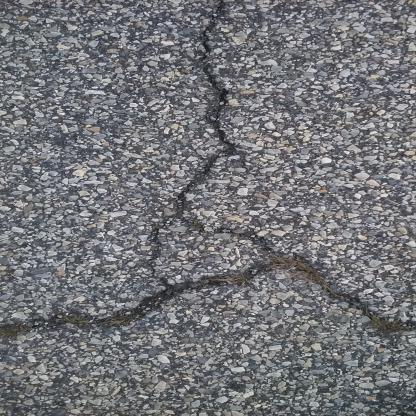Cracks: (143, 0, 286, 280), (0, 252, 416, 340)
